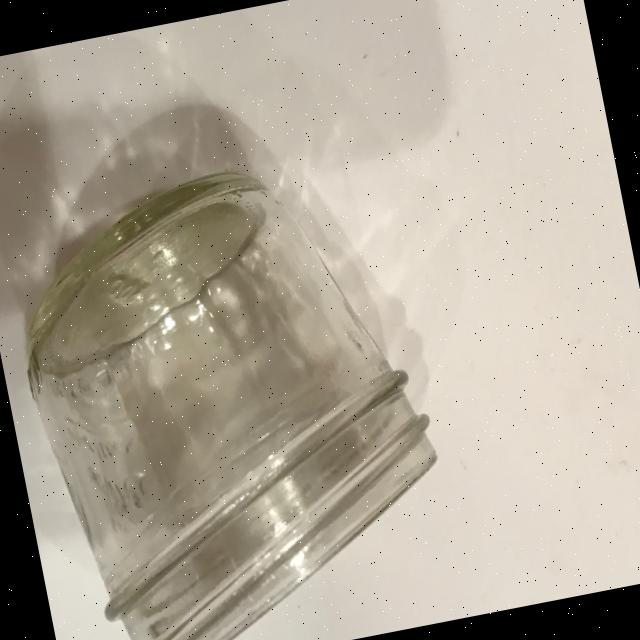glass: (0, 122, 482, 640)
